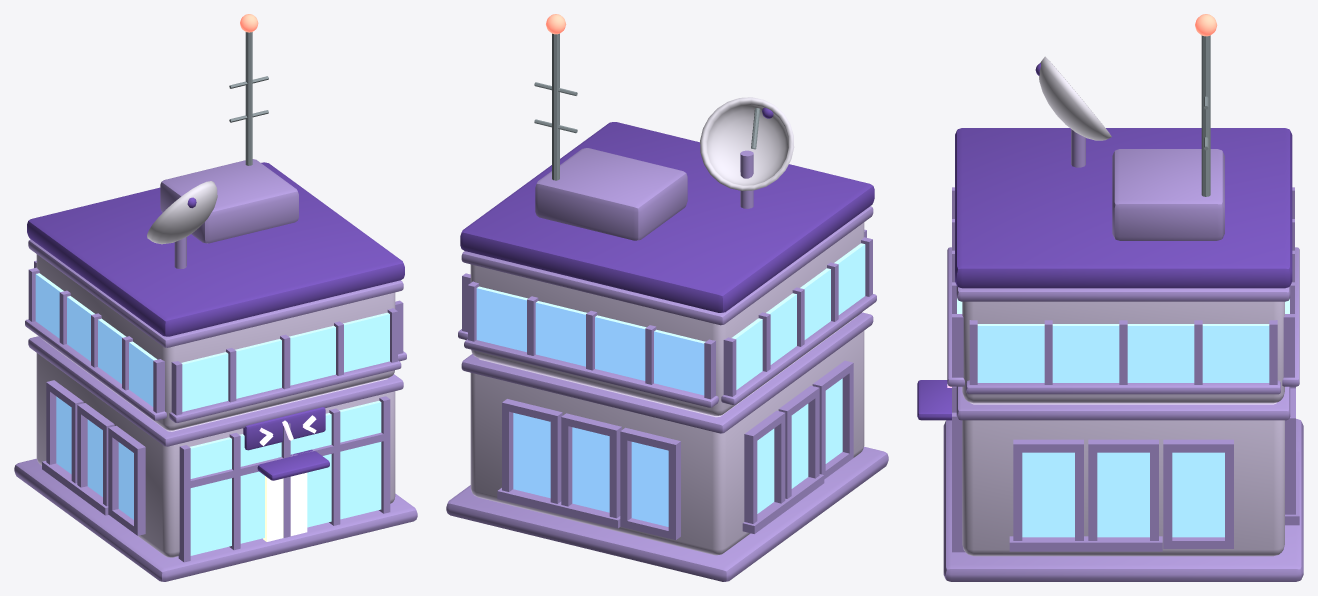
File: bld_it.glb
The picture shows the model from 3 angles, left to right: view 1: azimuth 30°, elevation 25°; view 2: azimuth 150°, elevation 25°; view 3: azimuth 270°, elevation 25°; orthographic projection. The views are drawn at different scales.
Parts seen in each view (by area): view 1: Base, Roof, Floor; view 2: Base, Roof, Floor; view 3: Base, Roof, Floor.
Boxes of the visible parts, <box> form: Base: <box>14,336,417,581</box>; Roof: <box>27,14,404,336</box>; Floor: <box>25,239,406,430</box>; Base: <box>446,312,888,581</box>; Roof: <box>460,14,874,312</box>; Floor: <box>458,206,876,415</box>; Base: <box>917,380,1303,581</box>; Roof: <box>955,14,1292,288</box>; Floor: <box>947,187,1299,403</box>.
Bounding box in the file's own units: 0.96 × 1.58 × 1.03.
